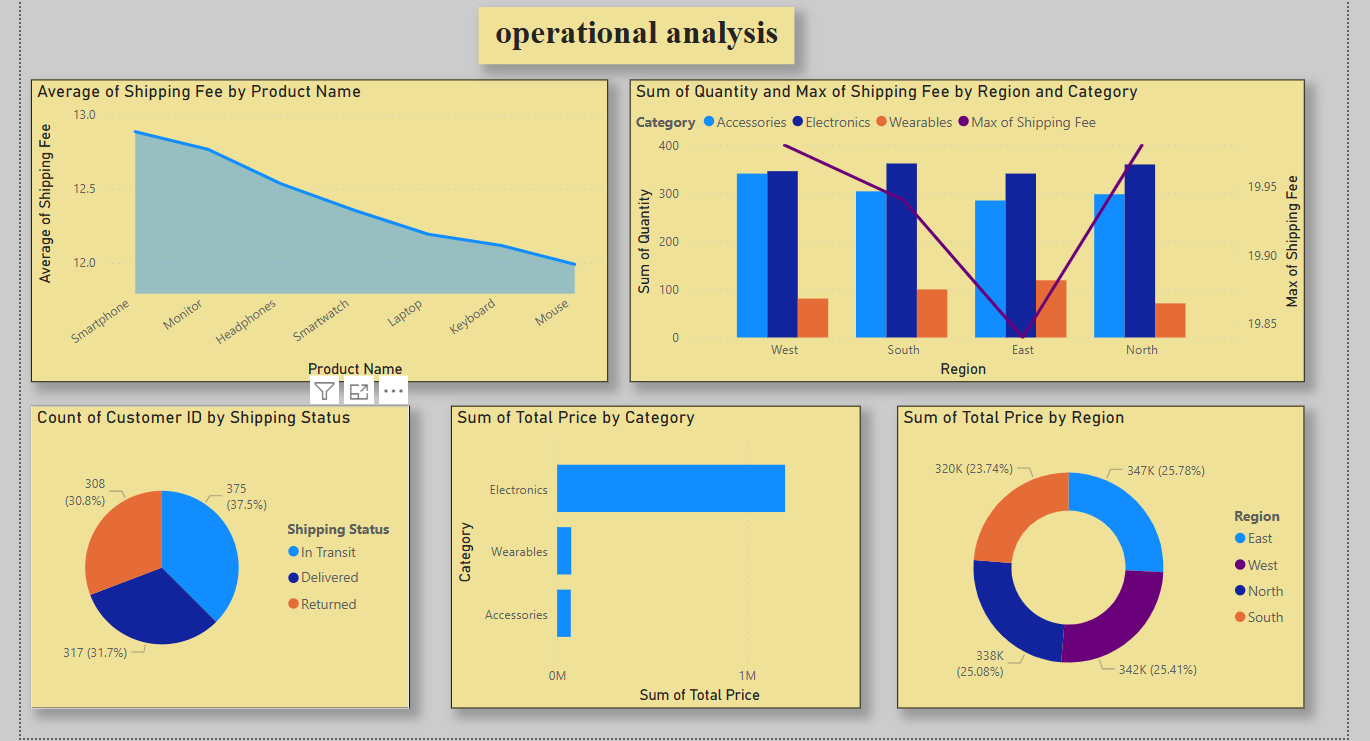

Layout of this report page (visuals, bound fields, positions):
{"tool":"powerbi","page":{"name":"Page 1","canvas":[1280,720],"ordinal":0},"visuals":[{"type":"stackedAreaChart","fields":{"Category":["realistic_e_commerce_sales_data.Product Name"],"Y":["Avg(realistic_e_commerce_sales_data.Shipping Fee)"]},"box":[9.6,84.4,557.2,291.9],"z":0},{"type":"lineClusteredColumnComboChart","fields":{"Category":["realistic_e_commerce_sales_data.Region"],"Series":["realistic_e_commerce_sales_data.Category"],"Y2":["Max(realistic_e_commerce_sales_data.Shipping Fee)"],"Y":["Sum(realistic_e_commerce_sales_data.Quantity)"]},"box":[587.3,84.4,651.3,291.9],"z":1},{"type":"pieChart","fields":{"Category":["realistic_e_commerce_sales_data.Shipping Status"],"Y":["CountNonNull(realistic_e_commerce_sales_data.Customer ID)"]},"box":[9.6,399.2,365.4,291.9],"z":2},{"type":"barChart","fields":{"Y":["Sum(realistic_e_commerce_sales_data.Total Price)"],"Category":["realistic_e_commerce_sales_data.Category"]},"box":[414.9,399.2,395.6,291.9],"z":3},{"type":"donutChart","fields":{"Category":["realistic_e_commerce_sales_data.Region"],"Y":["Sum(realistic_e_commerce_sales_data.Total Price)"]},"box":[845.4,399.2,393.2,291.9],"z":4},{"type":"textbox","box":[441.4,14.5,305.1,55.5],"z":5}]}

Visuals, with their boxes on the page's 1280x720 design canvas (x1, y1, x2, y2). These are canvas units, not pixel positions in the 1370x741 screenshot, which may show the page scaled, cropped or inside an application window:
stackedAreaChart - realistic_e_commerce_sales_data.Product Name x Avg(realistic_e_commerce_sales_data.Shipping Fee): x1=10, y1=84, x2=567, y2=376
lineClusteredColumnComboChart - realistic_e_commerce_sales_data.Region x realistic_e_commerce_sales_data.Category: x1=587, y1=84, x2=1239, y2=376
pieChart - realistic_e_commerce_sales_data.Shipping Status x CountNonNull(realistic_e_commerce_sales_data.Customer ID): x1=10, y1=399, x2=375, y2=691
barChart - Sum(realistic_e_commerce_sales_data.Total Price) x realistic_e_commerce_sales_data.Category: x1=415, y1=399, x2=810, y2=691
donutChart - realistic_e_commerce_sales_data.Region x Sum(realistic_e_commerce_sales_data.Total Price): x1=845, y1=399, x2=1239, y2=691
textbox: x1=441, y1=14, x2=746, y2=70
